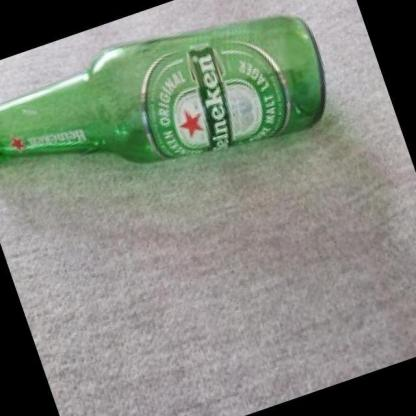Can: (0, 16, 326, 164)
